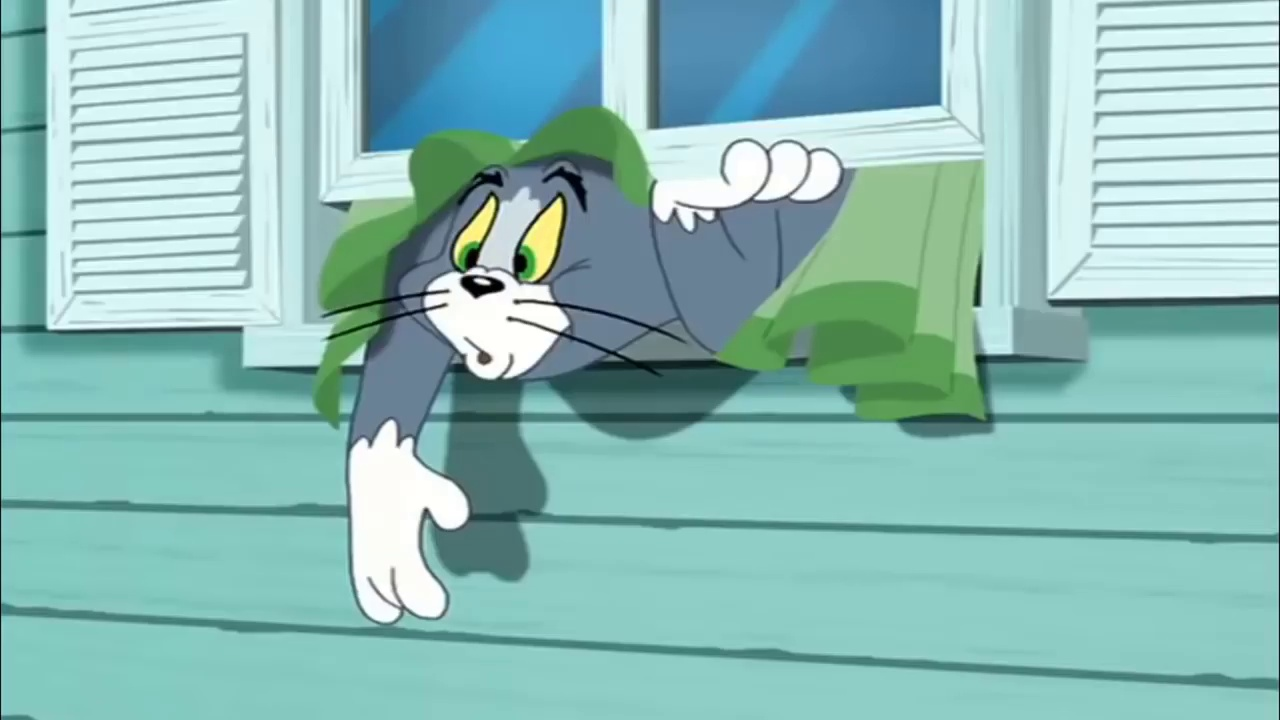face: (429, 167, 603, 380)
